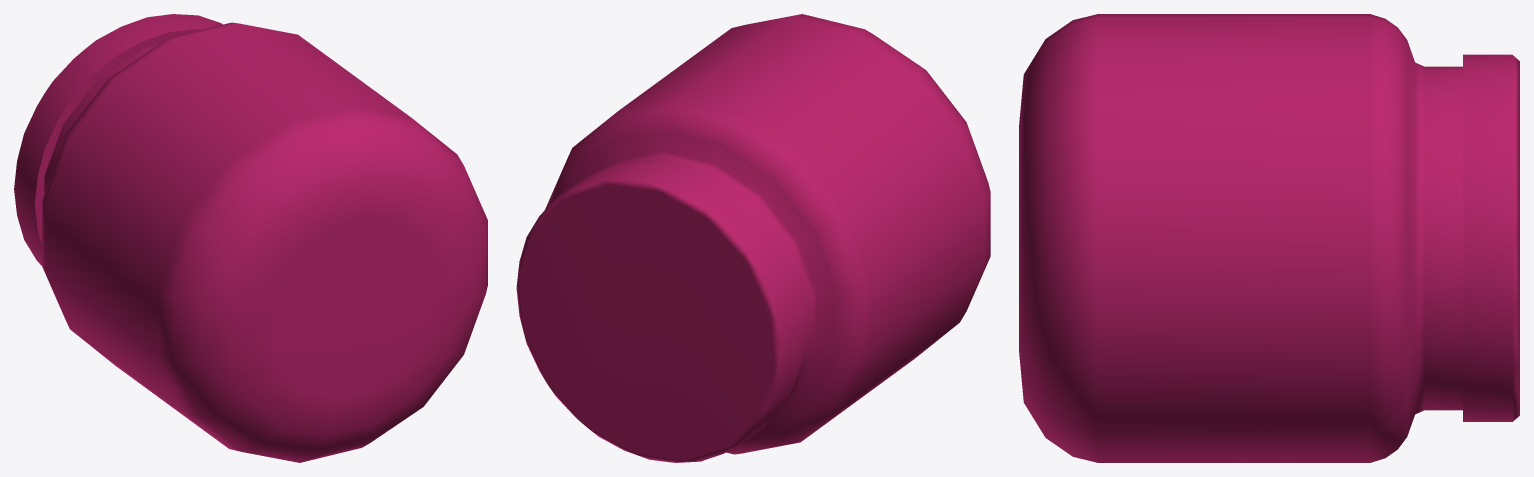
The model's file is SM_Dishes_01.fbx.
The picture shows the model from 3 angles, left to right: view 1: azimuth 30°, elevation 25°; view 2: azimuth 150°, elevation 25°; view 3: azimuth 270°, elevation 25°; orthographic projection. The views are drawn at different scales.
Parts seen in each view (by area): view 1: SM_Dishes_01; view 2: SM_Dishes_01; view 3: SM_Dishes_01.
Boxes of the visible parts, left/top/right/bottom form: SM_Dishes_01: left=14, top=14, right=487, bottom=462; SM_Dishes_01: left=516, top=14, right=990, bottom=462; SM_Dishes_01: left=1019, top=14, right=1519, bottom=462.
Size of the model in its own units: 11.53 by 11.53 by 12.95.
